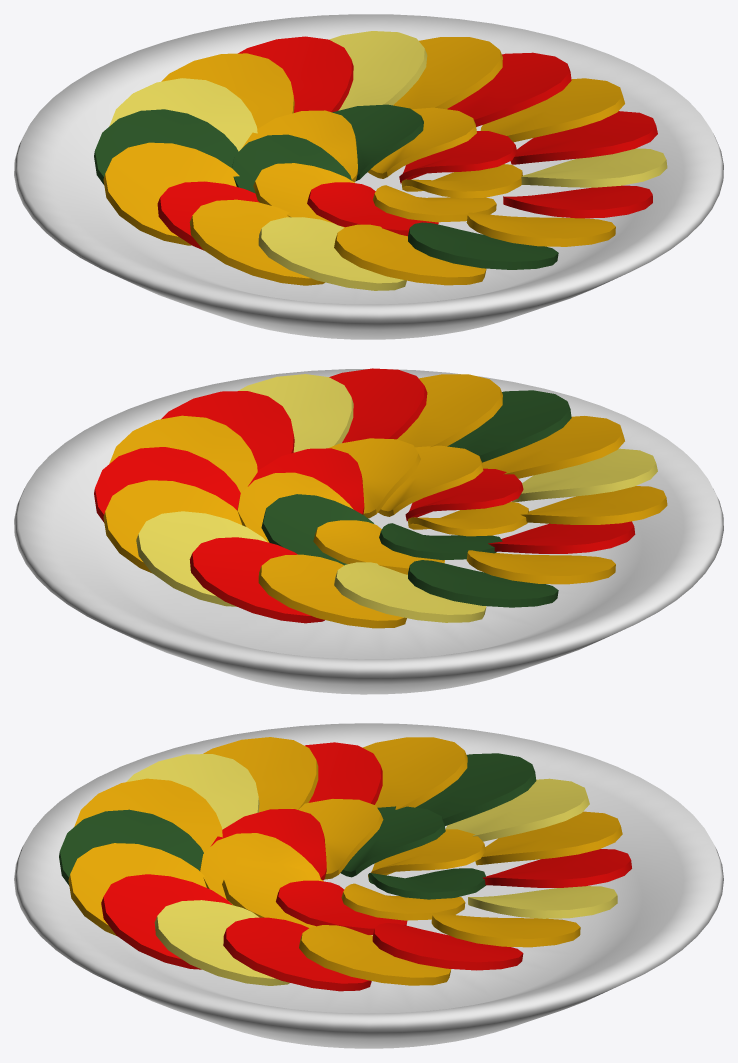
File: Plato.fbx
The picture shows the model from 3 angles, top to bottom: view 1: azimuth 30°, elevation 25°; view 2: azimuth 150°, elevation 25°; view 3: azimuth 270°, elevation 25°; orthographic projection.
Visible parts, largest first — view 1: Cylinder.008, Circle; view 2: Cylinder.008, Circle; view 3: Cylinder.008, Circle.
Part boxes in pixels (x1,y1,x2,y2): Cylinder.008: [94, 31, 667, 290]; Circle: [14, 14, 723, 339]; Cylinder.008: [94, 368, 667, 628]; Circle: [14, 369, 723, 694]; Cylinder.008: [59, 737, 631, 991]; Circle: [14, 723, 723, 1048].
Size of the model in its own units: 54.89 by 9.27 by 54.89.
